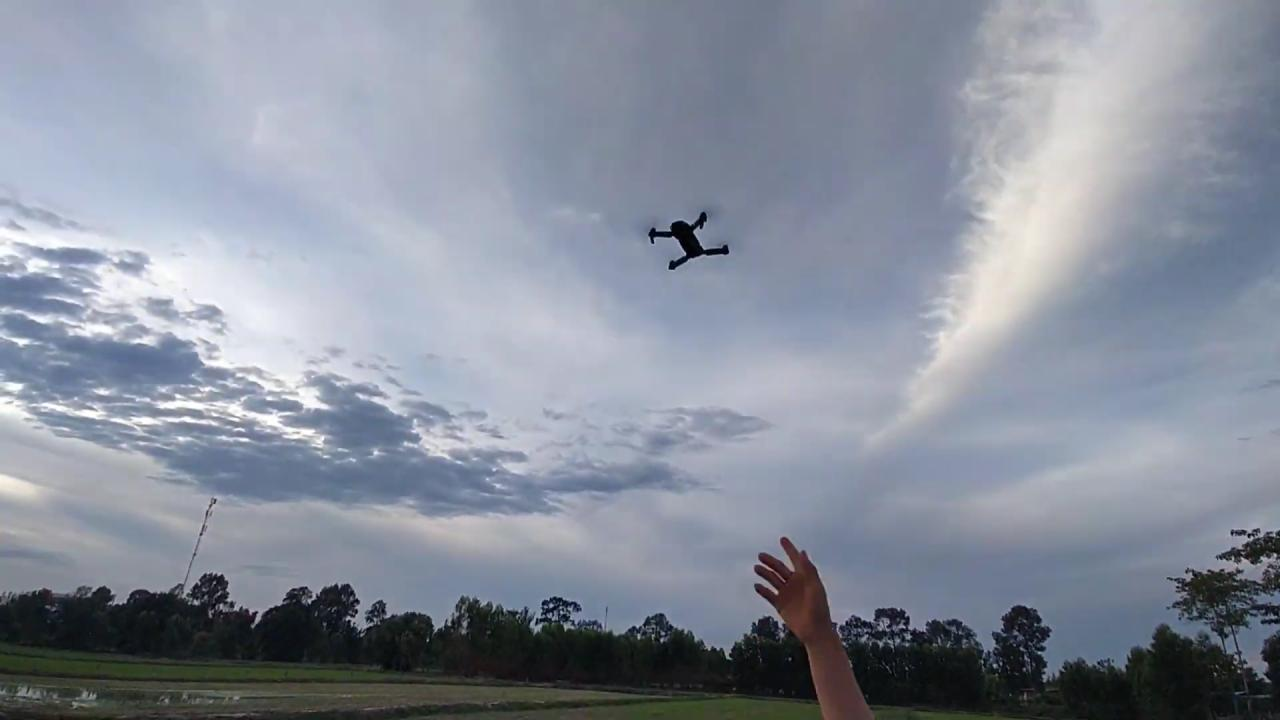Drone: (641, 203, 741, 279)
